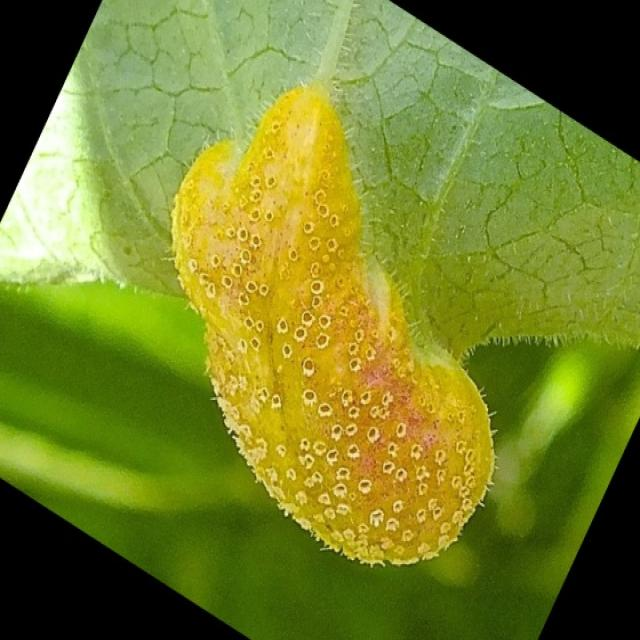Elderberry_rust: (176, 71, 543, 575)
